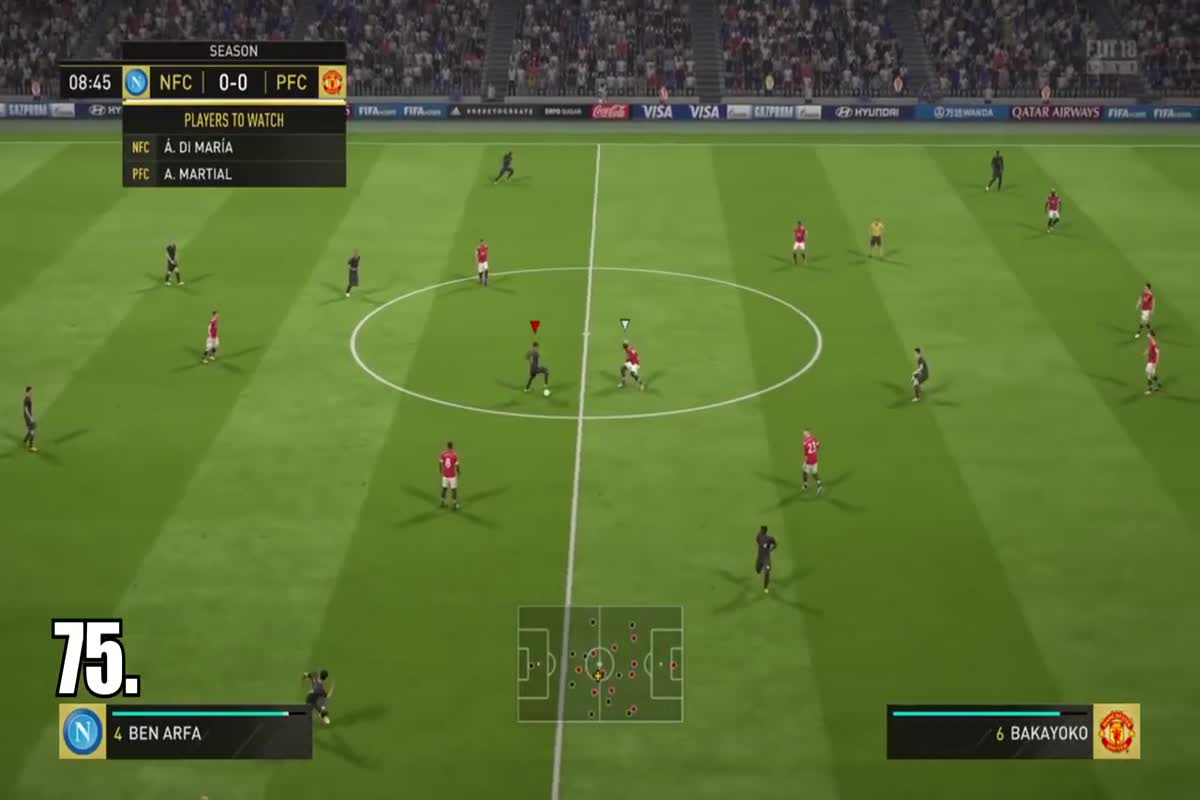ball: (538, 386, 559, 409)
